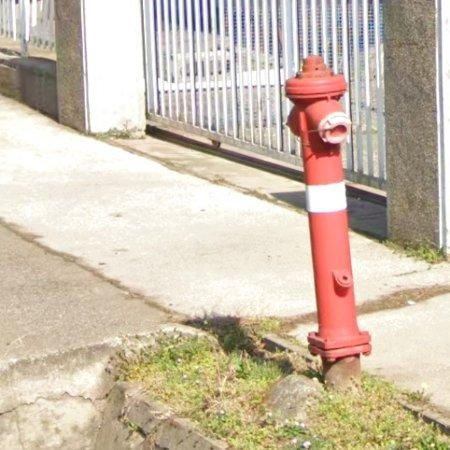a fire hydrant: (286, 55, 372, 388)
